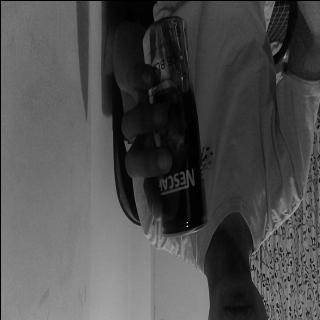alumunium_can: (138, 15, 208, 242)
